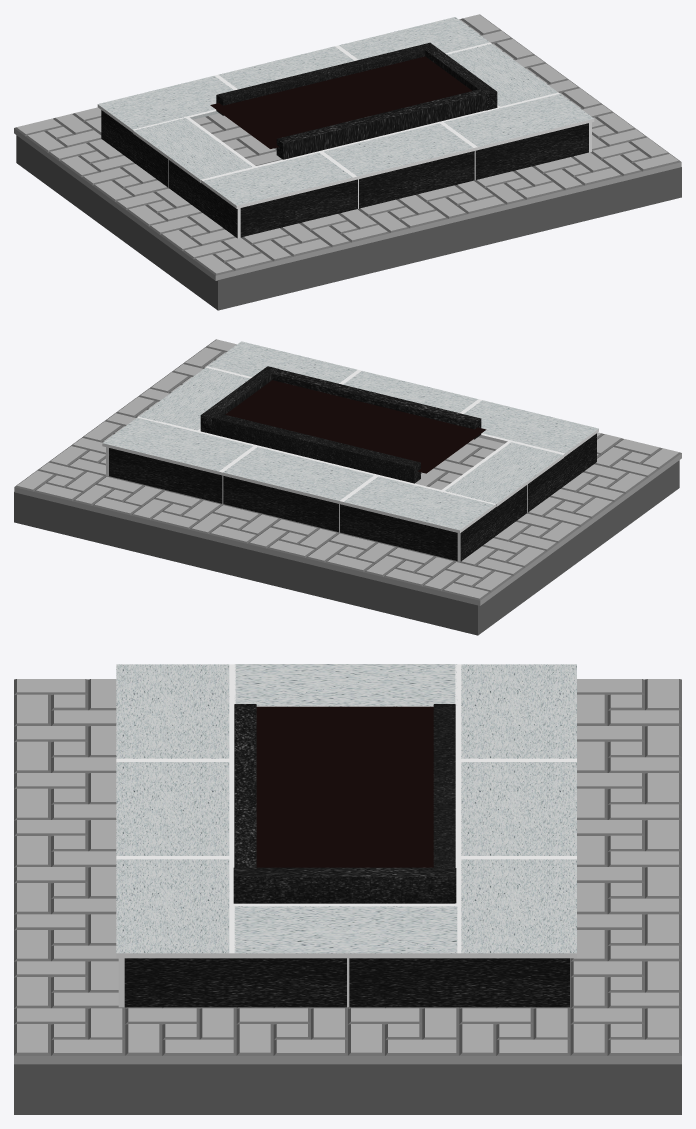
File: 180-120-15 мансур.glb
3 renders of one model, top to bottom at view 1: azimuth 30°, elevation 25°; view 2: azimuth 150°, elevation 25°; view 3: azimuth 270°, elevation 25°, orthographic. The views are drawn at different scales.
Visible parts, largest first — view 1: plitka, Cube.146, Cube.150, Cube.145, Plane.001, Cube.149, Куб.224, Cube.147, Cube.152, Cube.151, Куб.222, Куб.223; view 2: plitka, Cube.146, Cube.149, Cube.142, Plane.001, Cube.150, Куб.222, Cube.147, Cube.152, Cube.151, Куб.224, Куб.223; view 3: plitka, Cube.149, Cube.150, Cube.146, Plane.001, Cube.148, Cube.151, Cube.152, Куб.223, Куб.222, Куб.224.
Boxes of the visible parts, x1,y1,x2,y2 form: plitka: (14, 14, 681, 280); Cube.146: (16, 135, 681, 310); Cube.150: (201, 92, 594, 208); Cube.145: (240, 123, 588, 237); Plane.001: (210, 56, 471, 148); Cube.149: (97, 17, 491, 132); Куб.224: (276, 89, 485, 159); Cube.147: (101, 110, 240, 238); Cube.152: (133, 117, 255, 182); Cube.151: (447, 44, 557, 107); Куб.222: (216, 45, 425, 115); Куб.223: (419, 42, 497, 110); plitka: (14, 339, 681, 605); Cube.146: (14, 460, 679, 635); Cube.149: (102, 416, 495, 533); Cube.142: (109, 448, 460, 561); Plane.001: (225, 380, 486, 473); Cube.150: (206, 341, 598, 456); Куб.222: (210, 413, 420, 483); Cube.147: (460, 433, 596, 561); Cube.152: (442, 441, 563, 506); Cube.151: (139, 367, 249, 431); Куб.224: (272, 369, 481, 439); Куб.223: (200, 366, 278, 433); plitka: (14, 679, 681, 1064); Cube.149: (455, 664, 576, 958); Cube.150: (116, 664, 235, 958); Cube.146: (14, 1064, 681, 1114); Plane.001: (256, 706, 433, 867); Cube.148: (118, 958, 569, 1007); Cube.151: (234, 903, 457, 958); Cube.152: (234, 664, 457, 708); Куб.223: (233, 867, 456, 903); Куб.222: (433, 704, 455, 868); Куб.224: (234, 704, 256, 867).
Bounding box in the file's own units: 2.4 × 0.4238 × 1.8.
7 materials, 3 textured.
